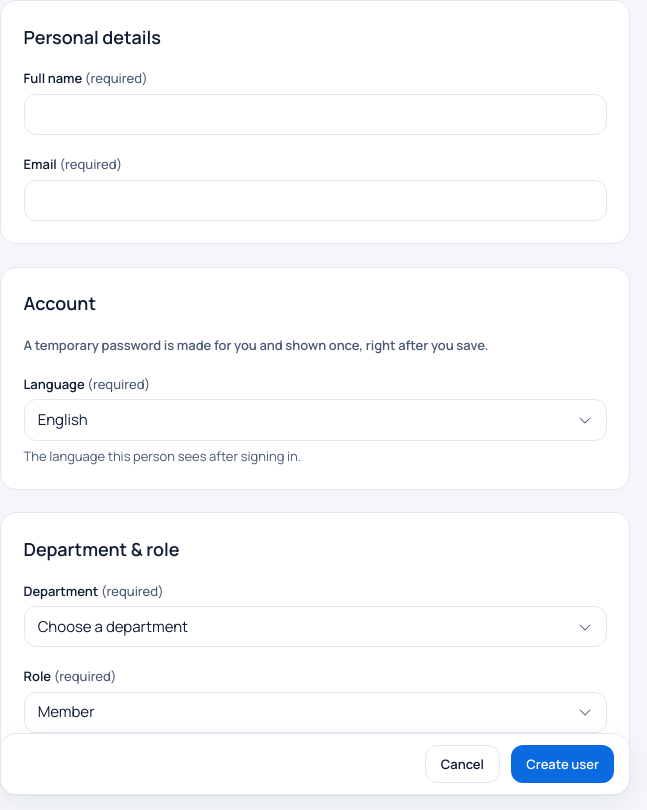
UserForm: saving › shows a general failure message for server errors
Type "Dana" into the field with id "field-full_name" at (315, 115), box [24,94,606,135]
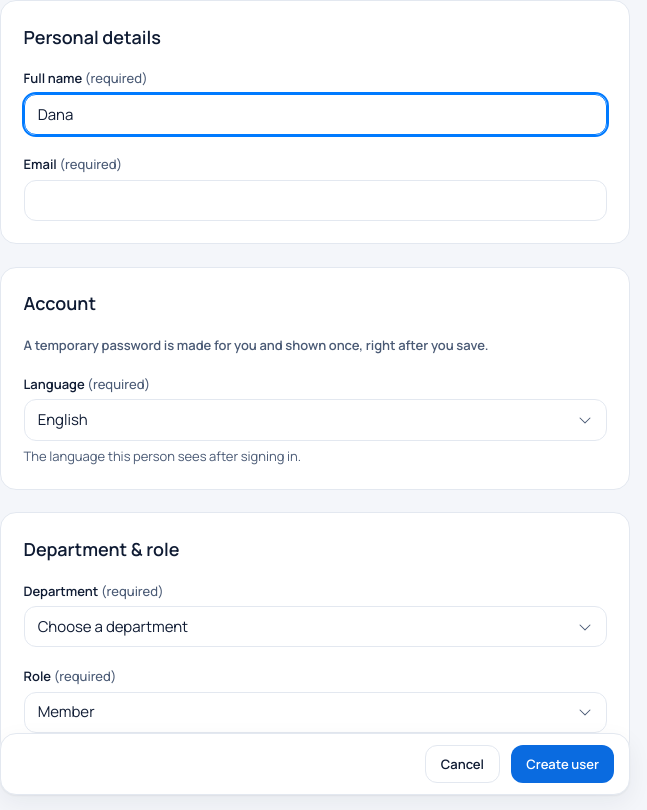
Type "dana@x.com" into the field with id "field-email" at (315, 200), box [24,180,606,221]
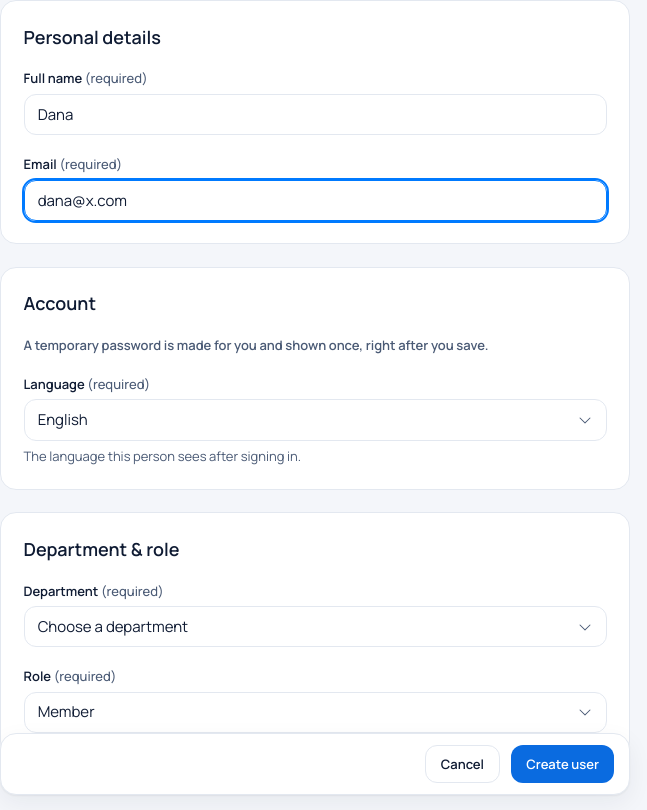
Select "Commercial" in the dropdown labelled "Department (required)" at (315, 627), box [24,606,606,647]
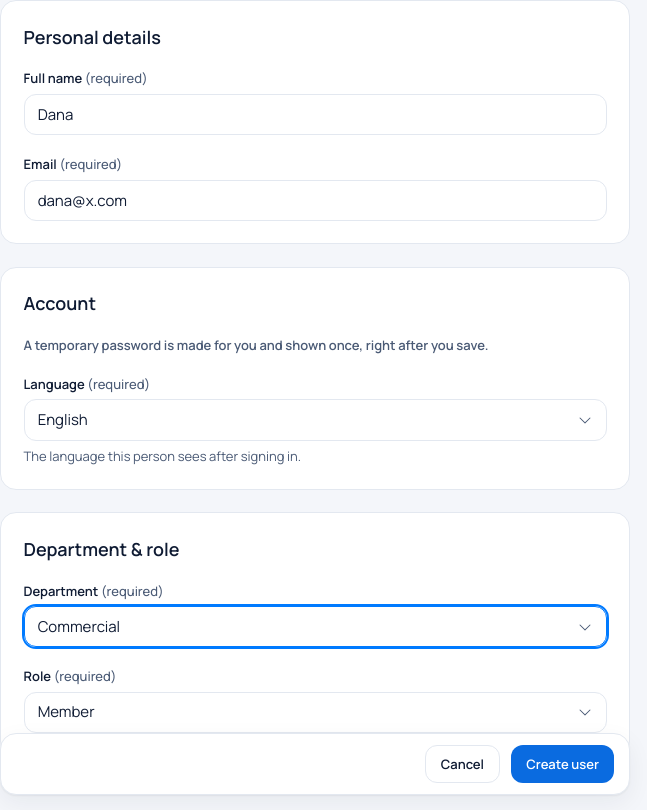
Click the button "Create user" at (563, 764), box [511,745,614,783]
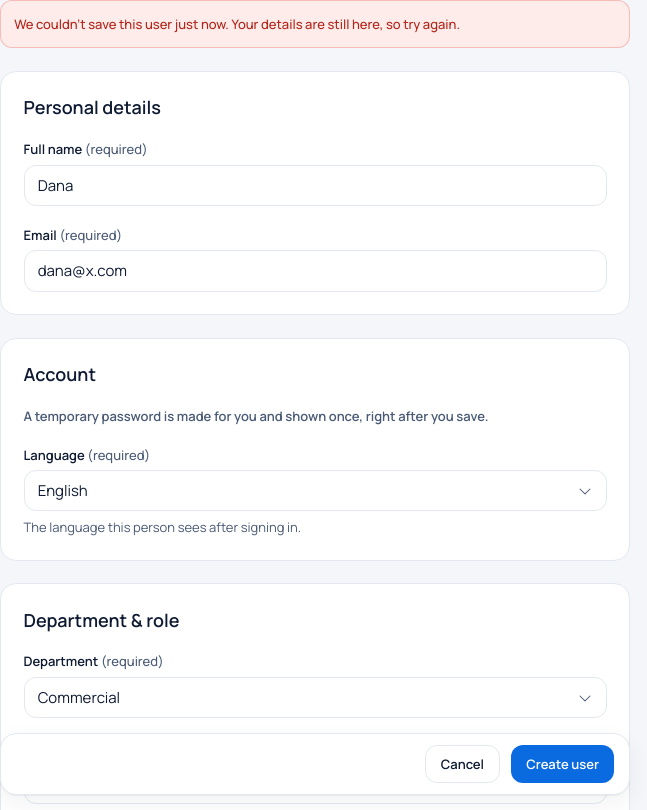
Result: the message is shown at [0,0,630,48]
